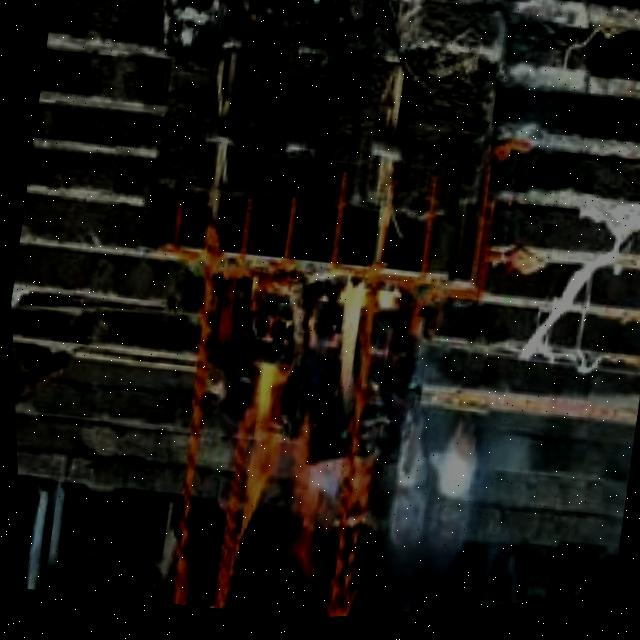Fire: (218, 266, 392, 572)
